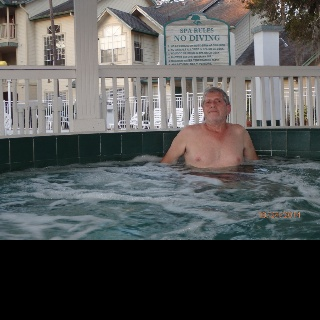without_mask: (203, 91, 227, 123)
